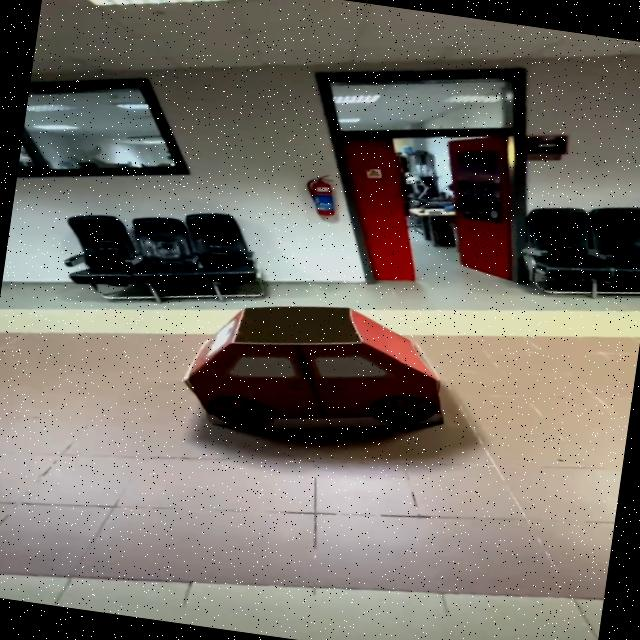red_car: (151, 270, 473, 475)
